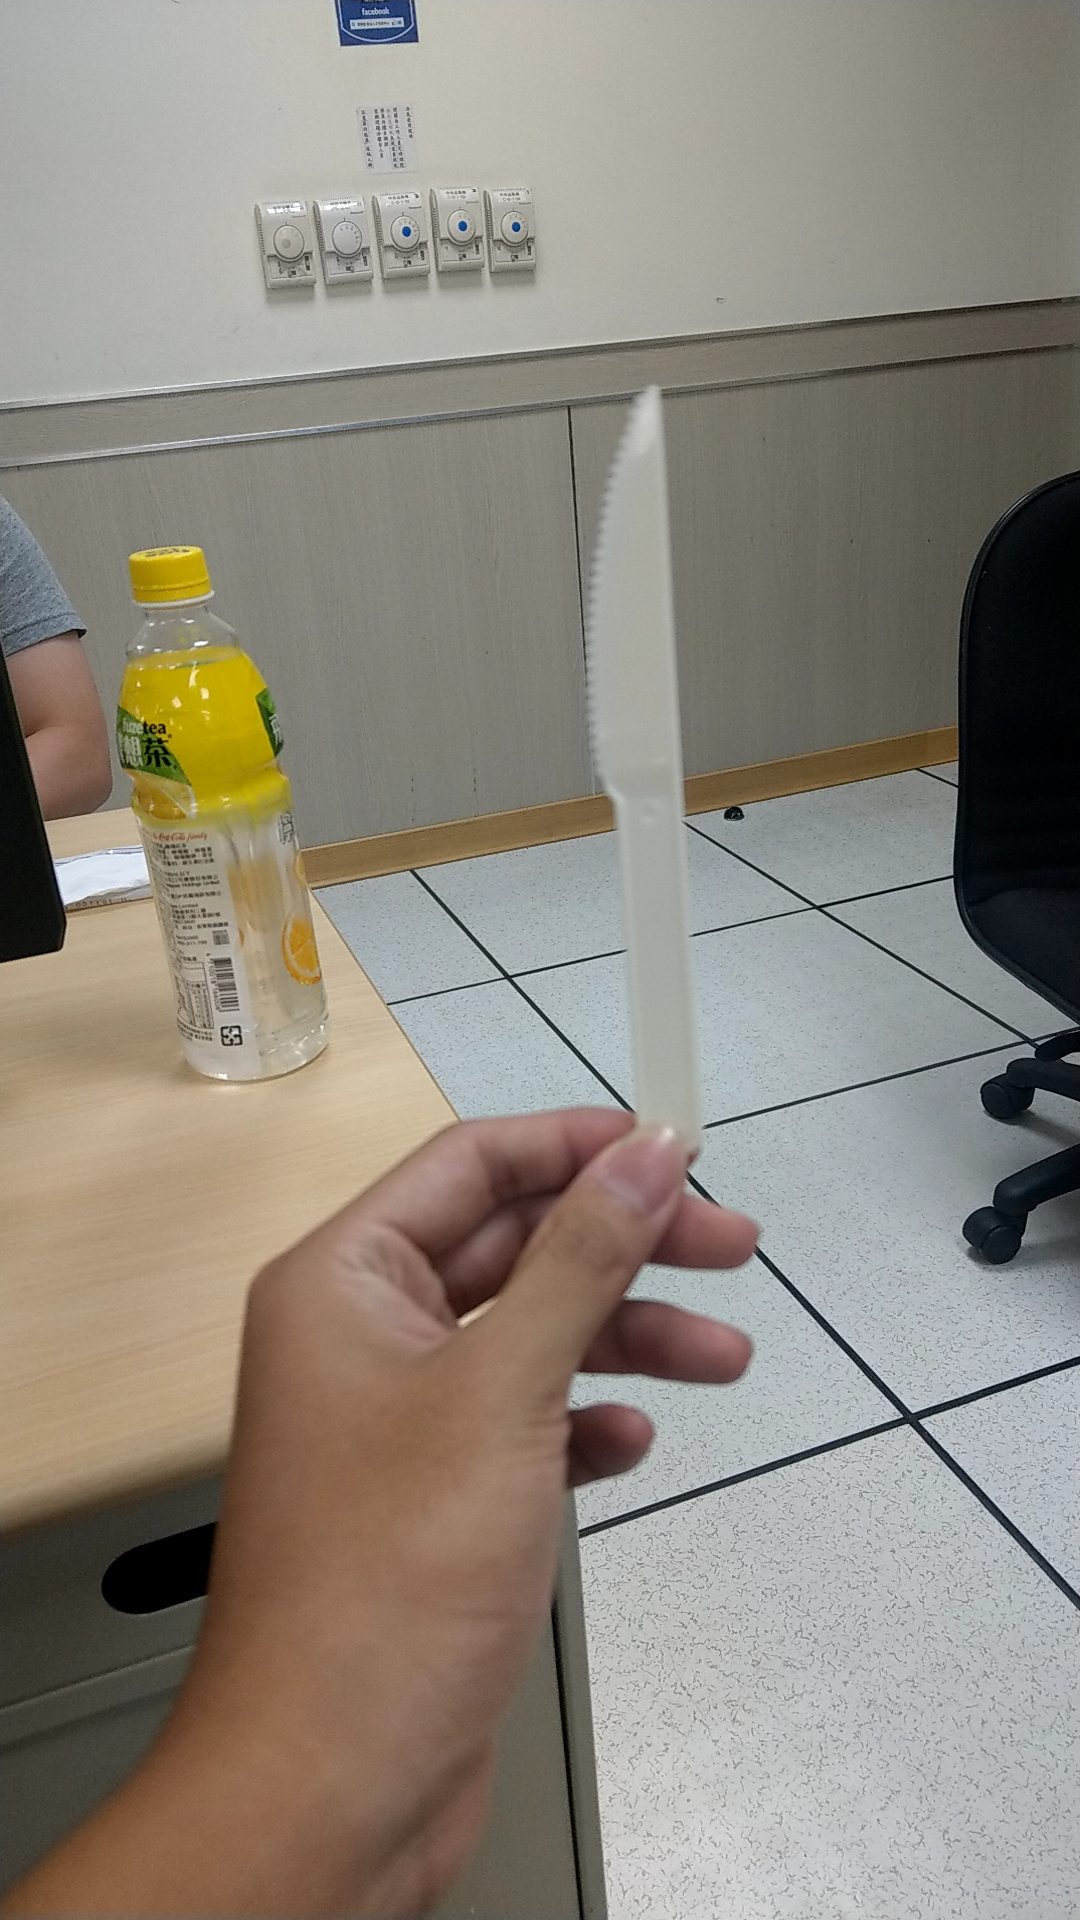knife: (560, 357, 742, 1147)
